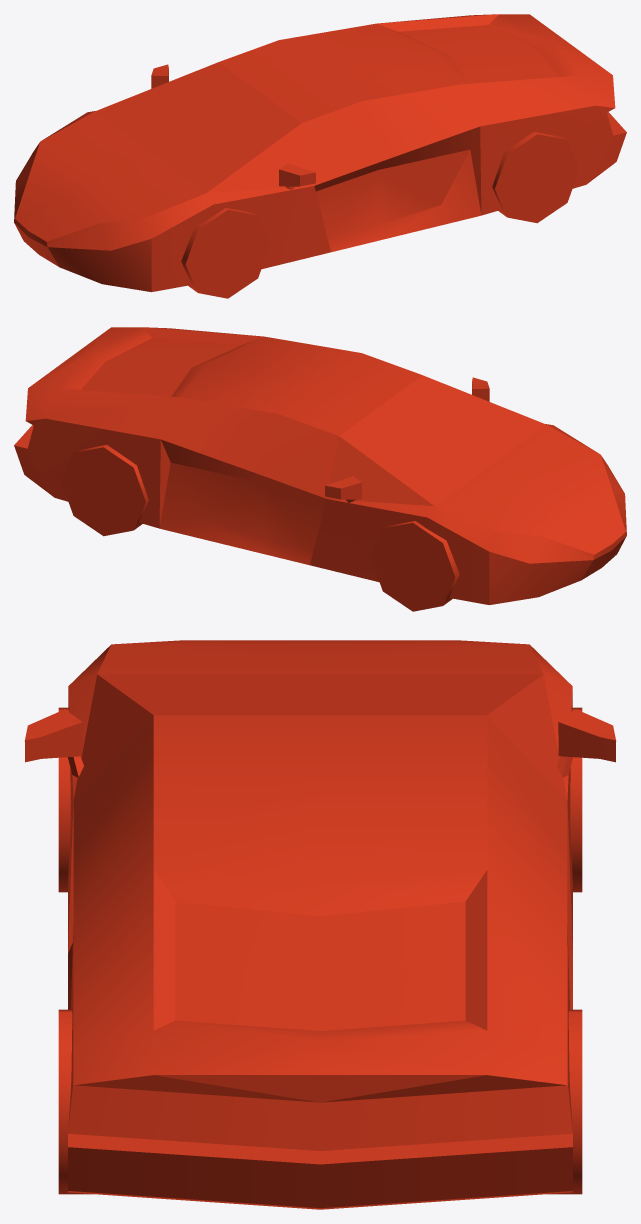
The model's file is sportsCar.obj.
3 renders of one model, top to bottom at view 1: azimuth 30°, elevation 25°; view 2: azimuth 150°, elevation 25°; view 3: azimuth 270°, elevation 25°, orthographic. The views are drawn at different scales.
Parts seen in each view (by area): view 1: sportscar_Cube.001; view 2: sportscar_Cube.001; view 3: sportscar_Cube.001.
Boxes of the visible parts, <box> form: sportscar_Cube.001: <box>14,14,626,298</box>; sportscar_Cube.001: <box>14,327,626,611</box>; sportscar_Cube.001: <box>24,640,616,1209</box>.
Bounding box in the file's own units: 5.46 × 1.34 × 2.53.
